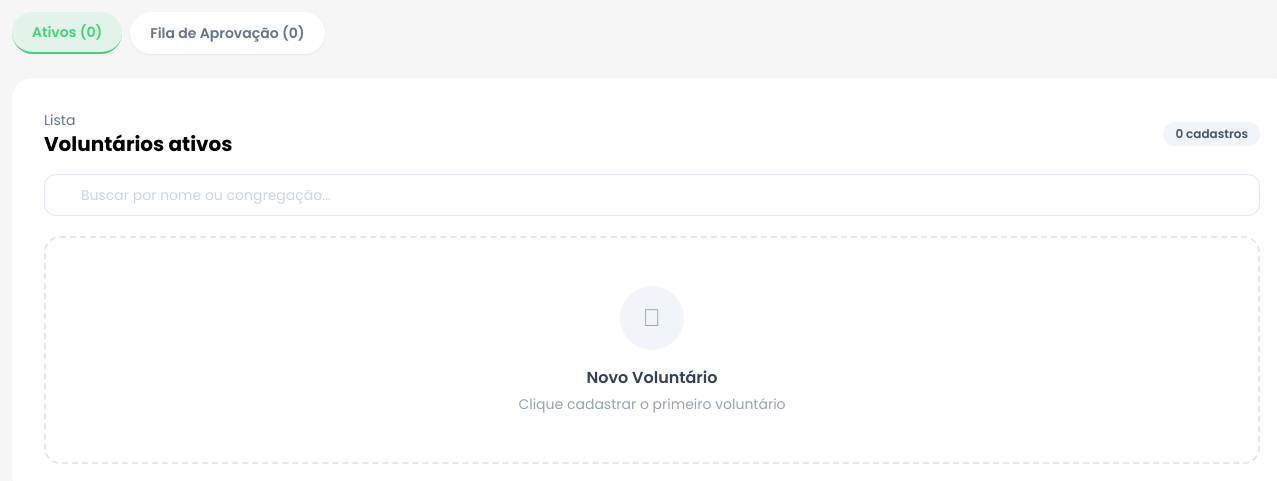
Scenario: VolunteersView › shows empty state when there are no pending volunteers
Click the button "Fila de Aprovação (0)".
click(227, 33)  # box [130,12,325,54]
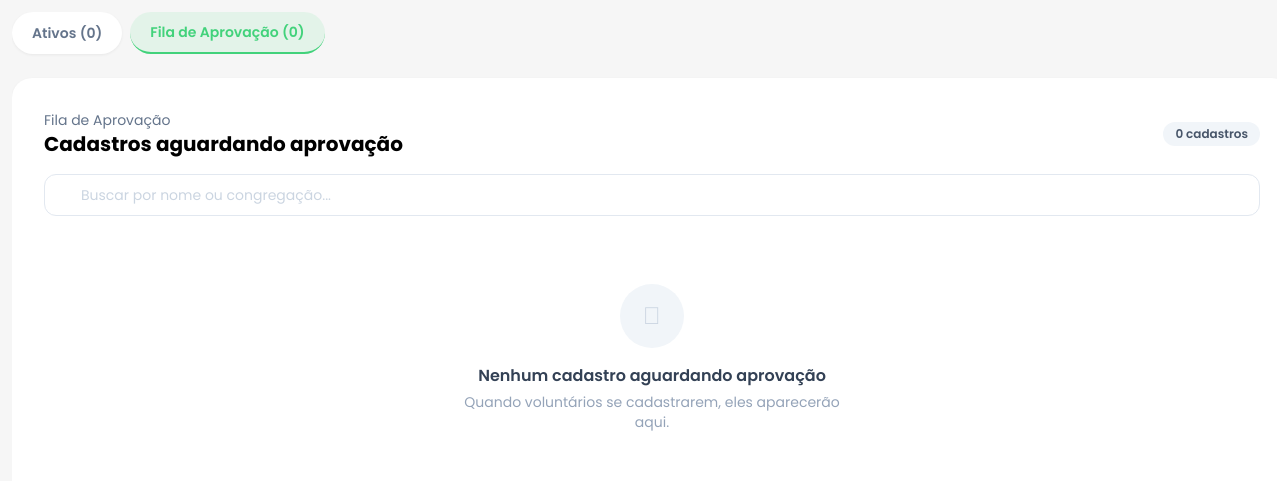
Now the heading "Nenhum cadastro aguardando aprovação" is shown, box [478,364,826,388]
